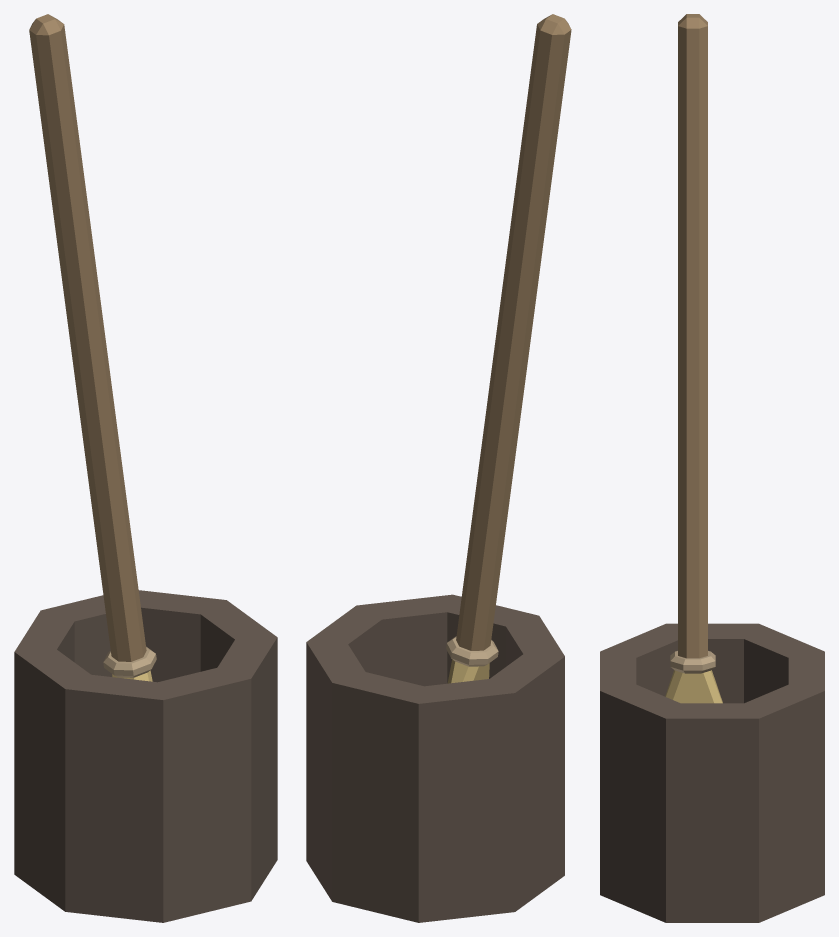
The model's file is BucketMop.obj.
3 renders of one model, left to right at view 1: azimuth 30°, elevation 25°; view 2: azimuth 150°, elevation 25°; view 3: azimuth 270°, elevation 25°, orthographic. The views are drawn at different scales.
Visible parts, largest first — view 1: mergedBlocks; view 2: mergedBlocks; view 3: mergedBlocks.
Part boxes in pixels (x1,y1,x2,y2): mergedBlocks: (14, 14, 277, 922); mergedBlocks: (306, 14, 571, 922); mergedBlocks: (600, 14, 824, 922).
Size of the model in its own units: 0.2162 by 0.7946 by 0.1995.
